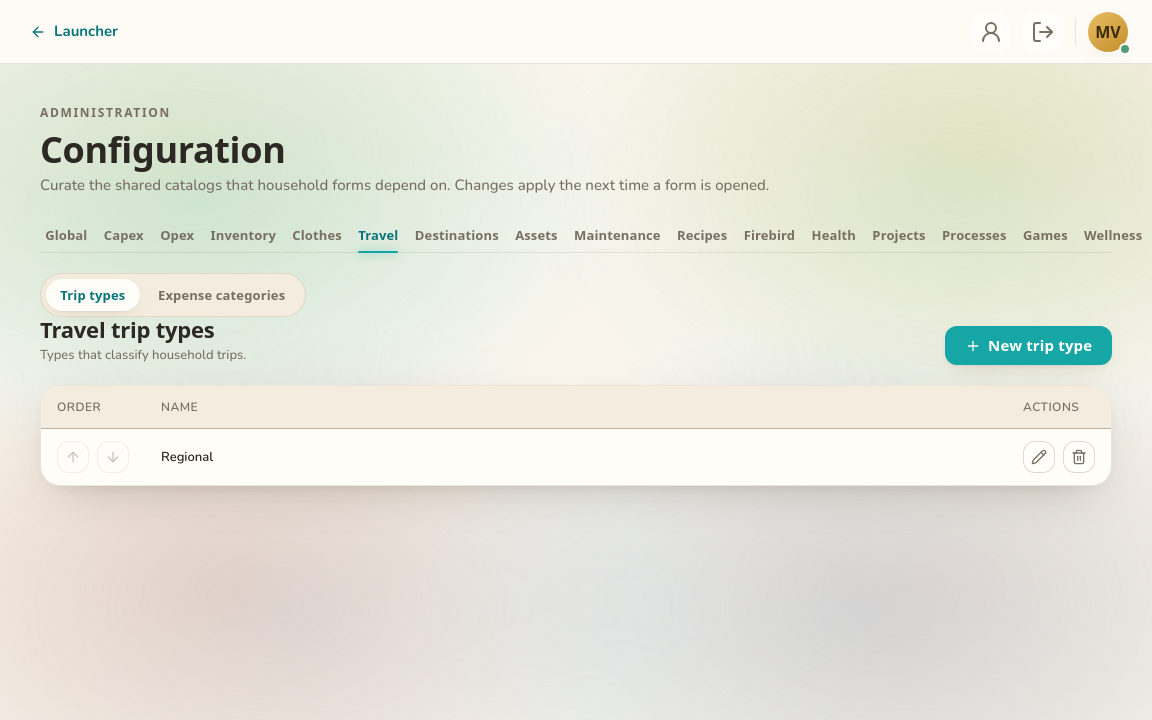
it: Configuration navigation and states › shows the Travel catalog tabs
This screenshot has width=1152, height=720.
Expected: the heading "Travel trip types" is shown, [40,314,214,344]
Expected: the text "Regional" is shown, [145,429,1007,485]
Click the tab "Expense categories".
click(222, 295)  # box [144,279,300,311]
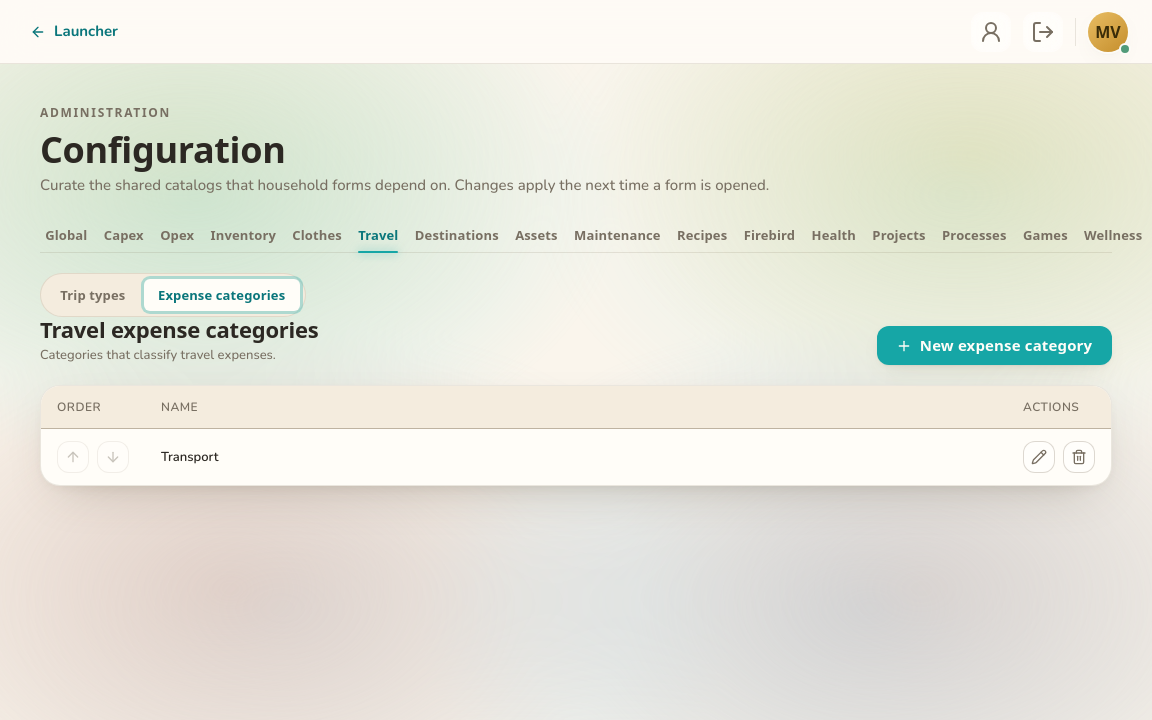
Now the heading "Travel expense categories" is shown, box [40,317,319,342]
Now the text "Transport" is shown, box [145,429,1007,485]
